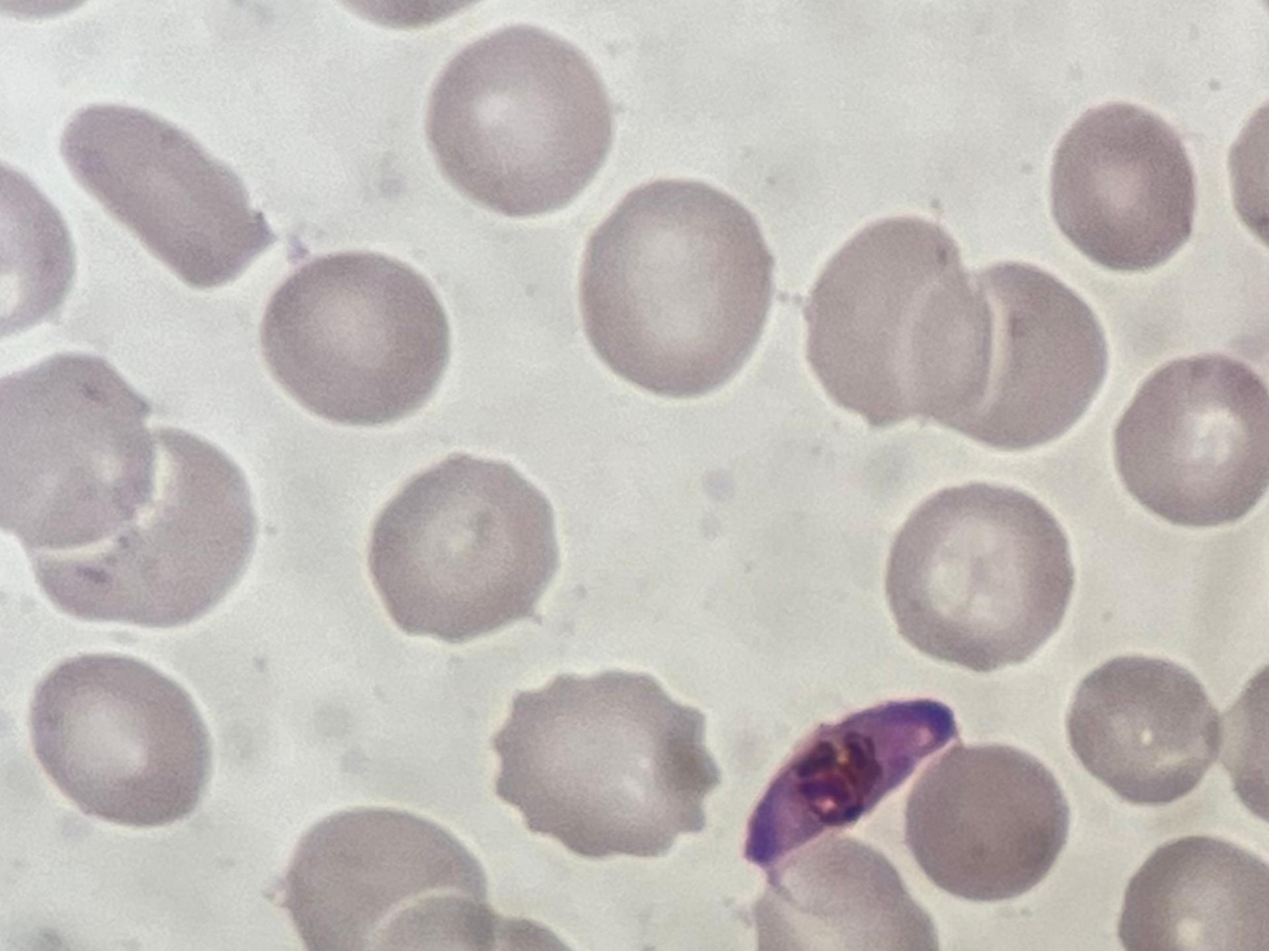Infected: (742, 693, 972, 919)
Uninfected: (28, 427, 255, 629), (580, 175, 776, 398), (491, 671, 720, 859), (801, 212, 999, 426), (58, 103, 266, 291), (912, 261, 1108, 455), (365, 448, 559, 638), (426, 23, 613, 217), (886, 481, 1072, 672), (263, 248, 445, 426), (26, 651, 208, 827), (0, 354, 160, 545), (286, 805, 490, 951), (1110, 352, 1269, 529), (905, 739, 1069, 904), (1051, 99, 1192, 269), (1069, 655, 1219, 809), (758, 855, 941, 951), (1119, 836, 1269, 951)
